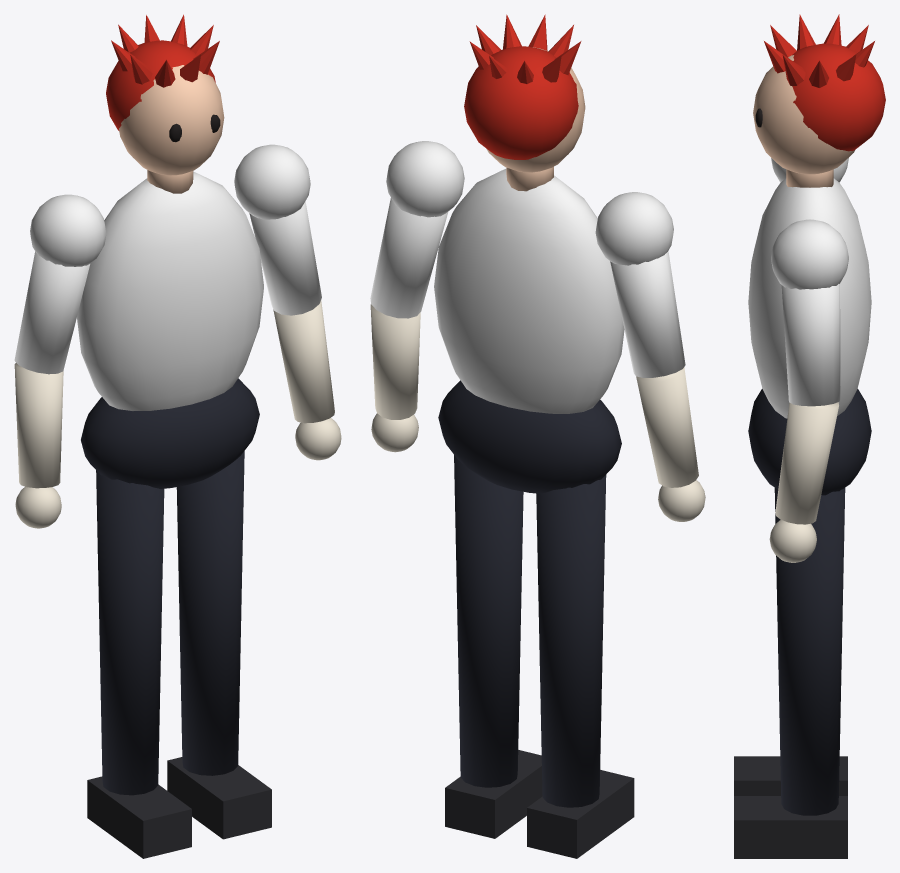
File: enji.glb
The picture shows the model from 3 angles, left to right: view 1: azimuth 30°, elevation 25°; view 2: azimuth 150°, elevation 25°; view 3: azimuth 270°, elevation 25°; orthographic projection. The views are drawn at different scales.
Visible parts, largest first — view 1: enji; view 2: enji; view 3: enji.
Part boxes in pixels (bbox=[...]): enji: bbox=[14, 14, 341, 858]; enji: bbox=[370, 14, 705, 858]; enji: bbox=[734, 14, 885, 858].
Bounding box in the file's own units: 0.8157 × 1.89 × 0.3291.
